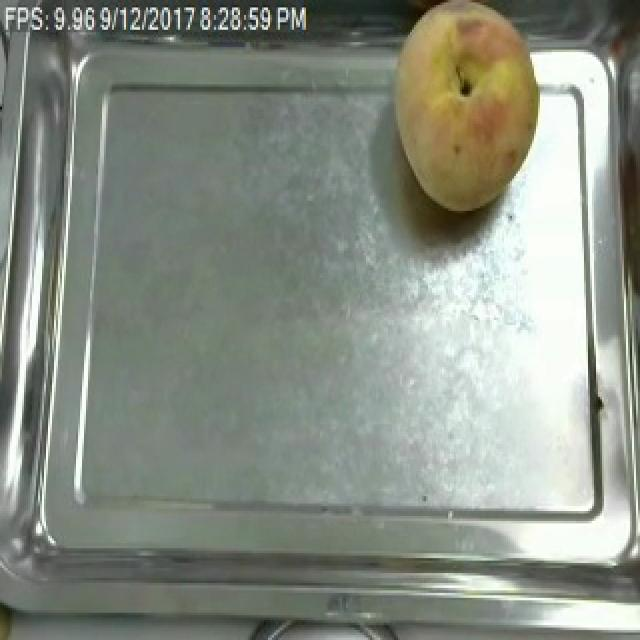Fruit: (382, 0, 546, 218)
